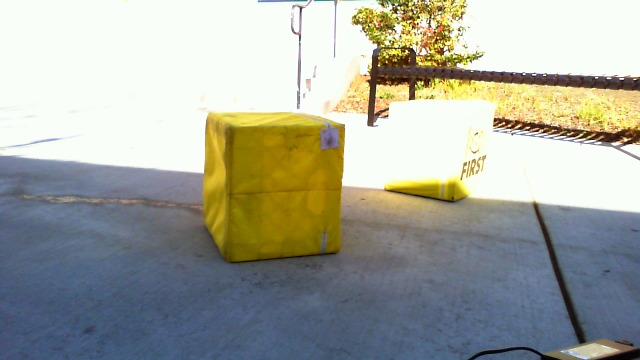cube: (203, 109, 350, 263), (381, 94, 501, 201)
